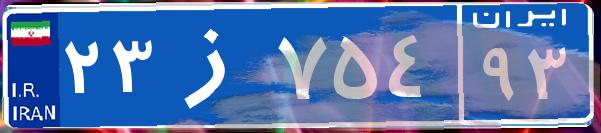2: (57, 26, 110, 107)
3: (110, 28, 158, 105), (525, 38, 570, 115)
4: (385, 28, 445, 110)
5: (330, 28, 385, 110)
7: (273, 28, 330, 110)
9: (475, 38, 525, 113)
ز: (158, 15, 273, 115)
